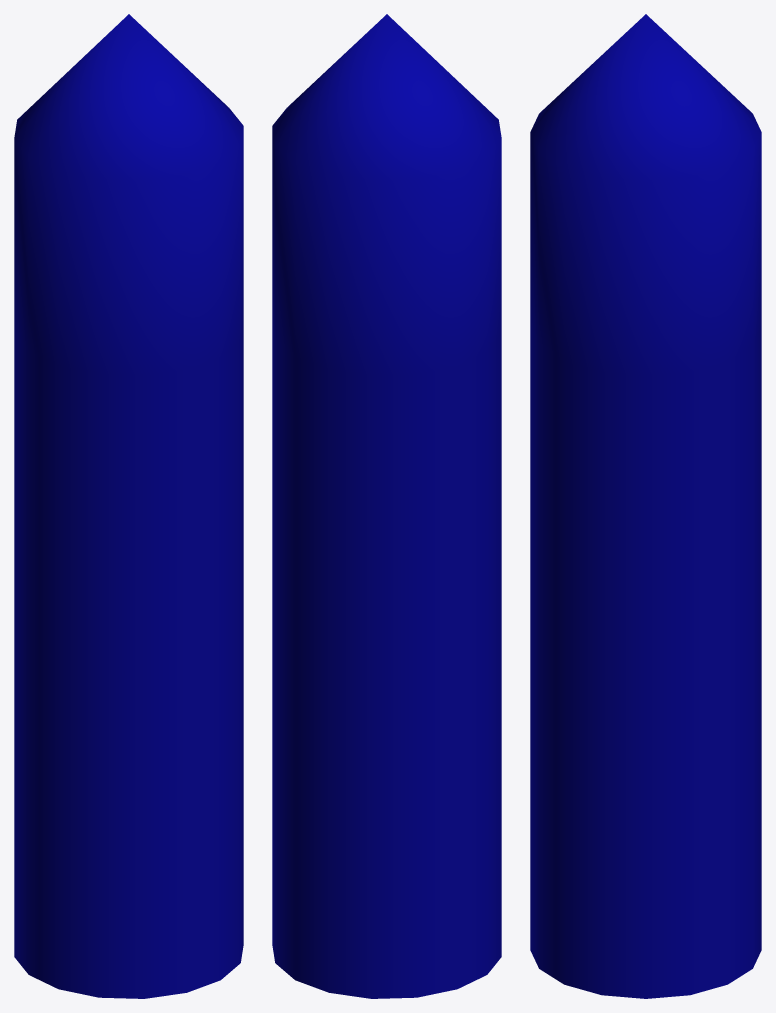
Rendered from SonicLeftKnee.obj.
3 renders of one model, left to right at view 1: azimuth 30°, elevation 25°; view 2: azimuth 150°, elevation 25°; view 3: azimuth 270°, elevation 25°, orthographic.
Parts seen in each view (by area): view 1: Cylinder_3.003; view 2: Cylinder_3.003; view 3: Cylinder_3.003.
Part boxes in pixels (x1,y1,x2,y2): Cylinder_3.003: [14, 14, 243, 998]; Cylinder_3.003: [272, 14, 501, 998]; Cylinder_3.003: [530, 14, 761, 998].
Size of the model in its own units: 0.1584 by 0.7068 by 0.1584.
